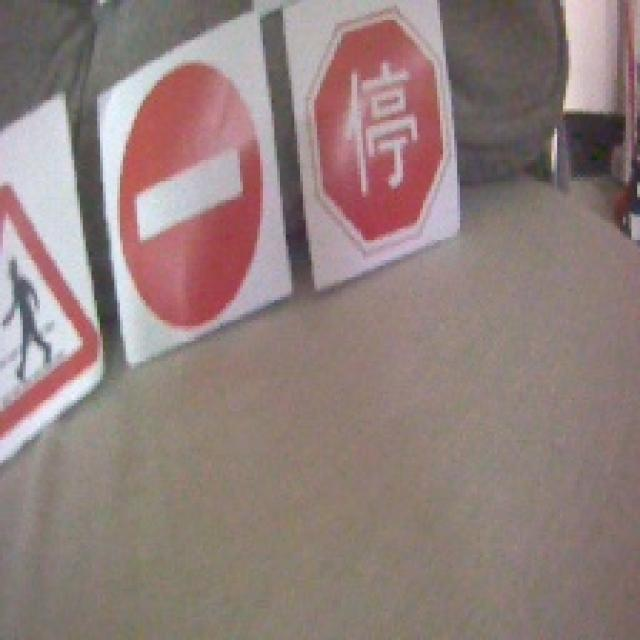DoNotEnterSign: (118, 60, 268, 334)
